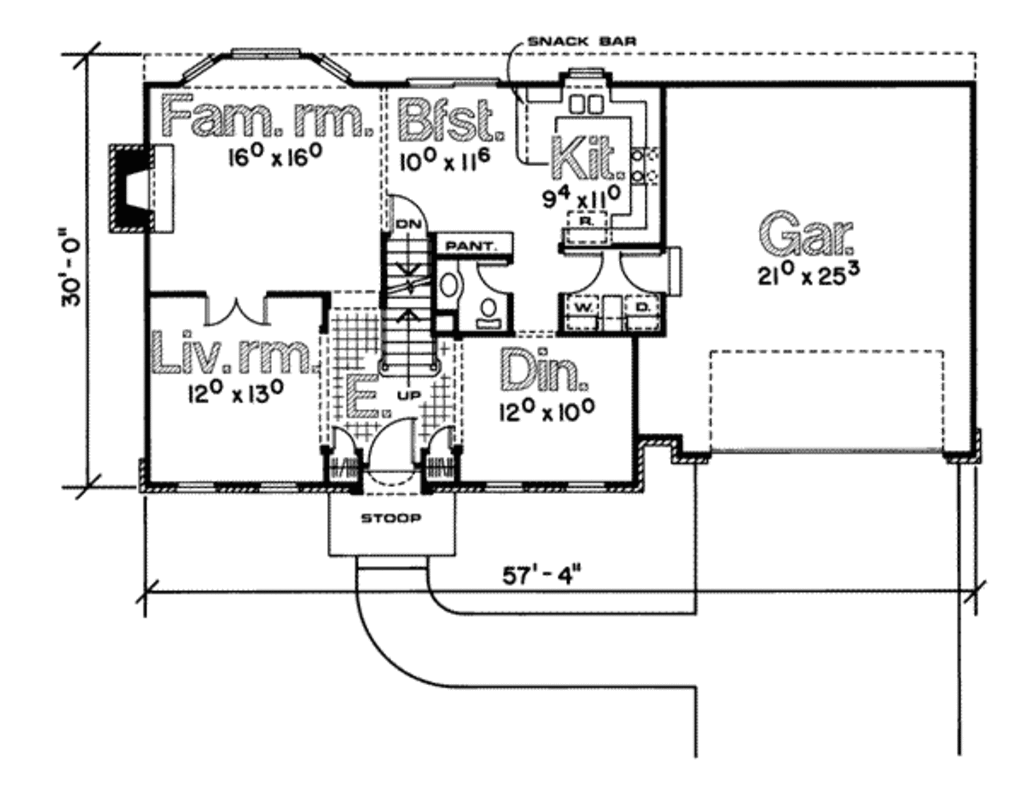door: (367, 416, 421, 468), (203, 289, 274, 328), (614, 248, 665, 298), (559, 246, 607, 297), (382, 193, 428, 240), (474, 261, 515, 298), (423, 426, 459, 456), (327, 424, 357, 456)
large_sink: (468, 297, 509, 335)
small_sink: (438, 256, 467, 315)
stairs: (380, 238, 448, 384)
window: (180, 44, 354, 90), (481, 475, 527, 501), (248, 480, 303, 500), (175, 476, 220, 500), (566, 63, 613, 85), (558, 479, 614, 494)
